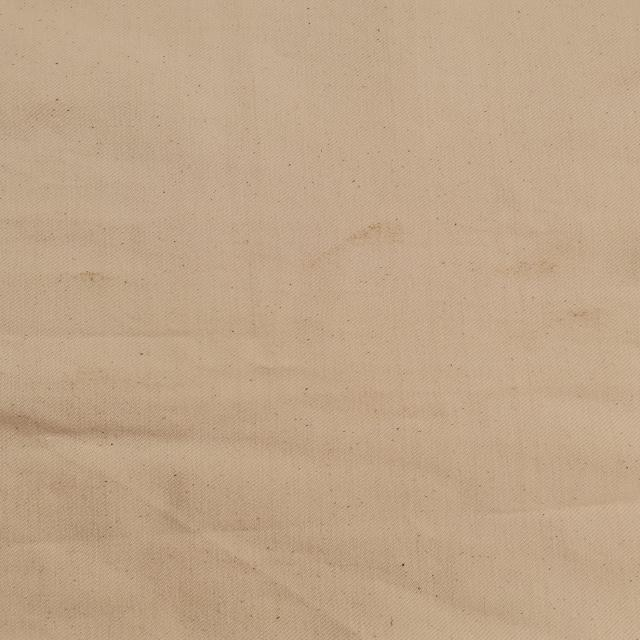taaaches: (318, 213, 466, 274), (53, 265, 137, 291), (510, 252, 558, 278), (550, 303, 596, 322)
